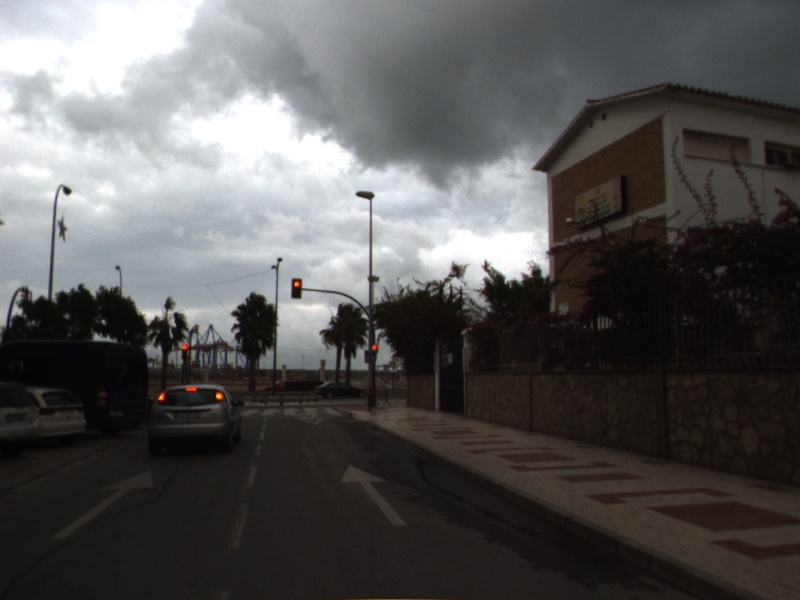STRAIGHT: (48, 468, 155, 542), (339, 463, 412, 528)
